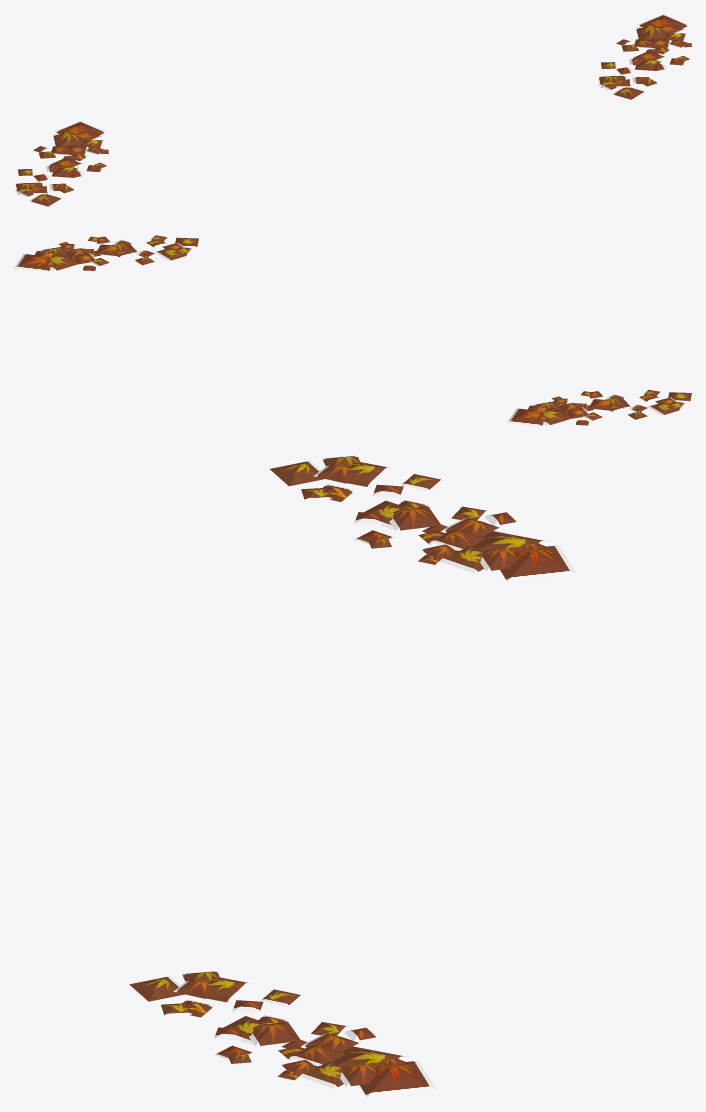
File: Area_01_7.fbx
3 views of the same model, one above another, from view 1: azimuth 30°, elevation 25°; view 2: azimuth 150°, elevation 25°; view 3: azimuth 270°, elevation 25° (orthographic). The views are drawn at different scales.
Visible parts, largest first — view 1: Area_01_7; view 2: Area_01_7; view 3: Area_01_7.
Boxes of the visible parts, x1,y1,x2,y2 form: Area_01_7: (14,14,691,206); Area_01_7: (14,235,691,426); Area_01_7: (129,455,576,1097).
Bounding box in the file's own units: 2098 × 17.77 × 621.
